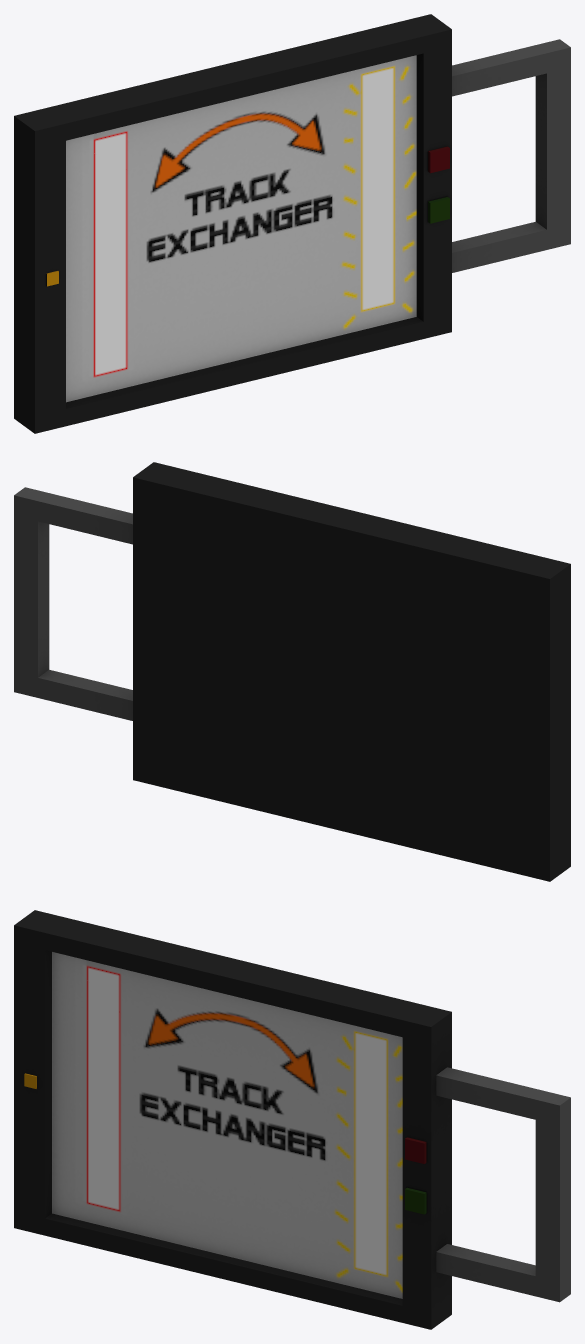
Rendered from track_exchanger.obj.
3 views of the same model, one above another, from view 1: azimuth 30°, elevation 25°; view 2: azimuth 150°, elevation 25°; view 3: azimuth 330°, elevation 25° (orthographic).
Parts seen in each view (by area): view 1: Cube_Cube.001; view 2: Cube_Cube.001; view 3: Cube_Cube.001.
Part boxes in pixels (x1,y1,x2,y2): Cube_Cube.001: (14,14,570,433); Cube_Cube.001: (14,462,570,881); Cube_Cube.001: (14,910,570,1329).
Size of the model in its own units: 0.4488 by 0.24 by 0.0333.
Materials: 1 (1 with a texture image).
